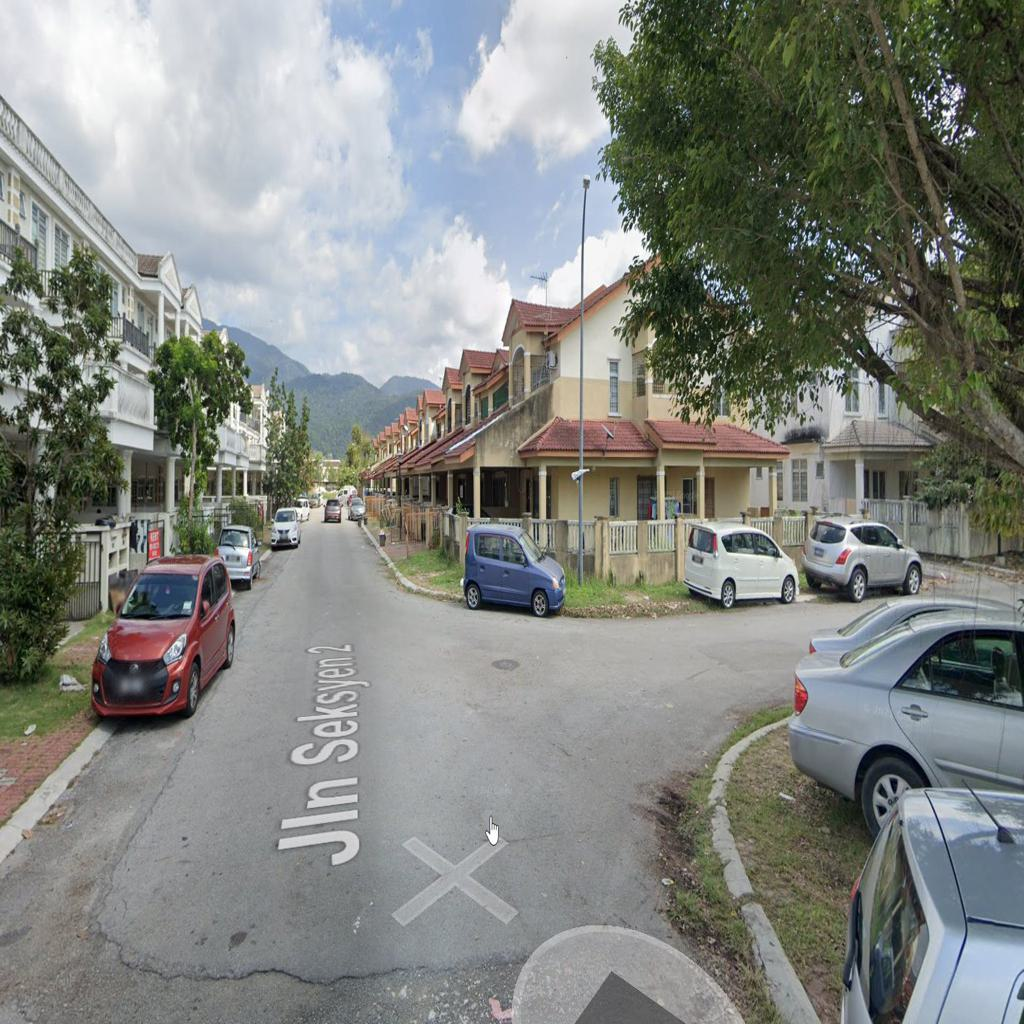Junction: (443, 546, 821, 843)
